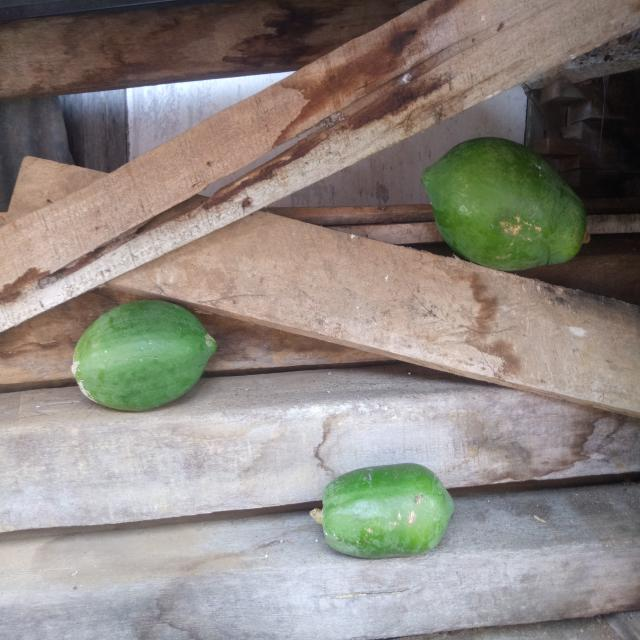Pepaya unrippen: (414, 140, 598, 279), (66, 292, 216, 416), (296, 465, 457, 563)
